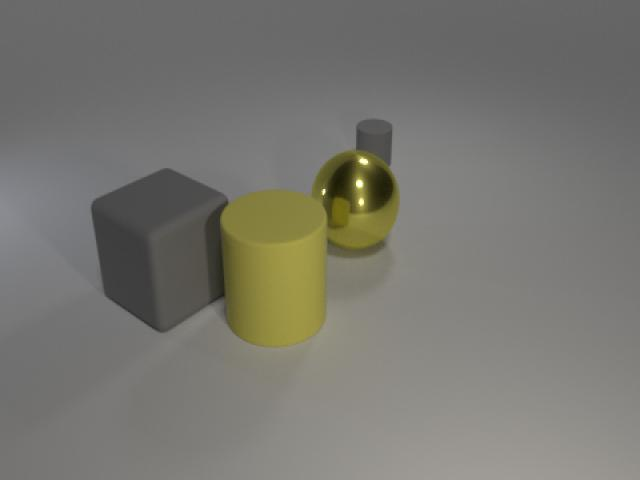cylinder: (213, 178, 335, 353), (351, 114, 399, 173)
round ball: (303, 142, 407, 260)
